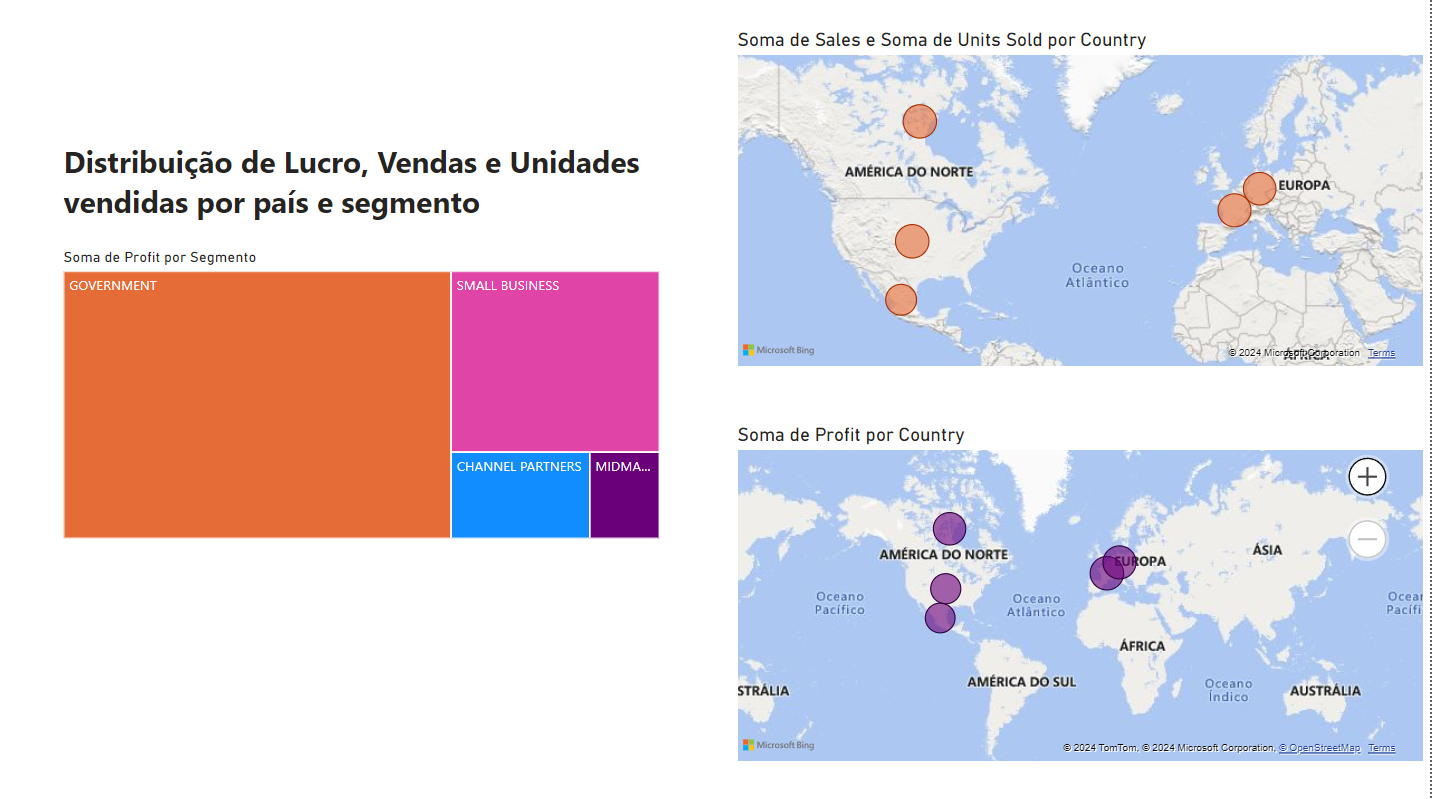

The dashboard page shown, as its layout file describes it:
{"tool":"powerbi","page":{"name":"Página 3","canvas":[1280,720],"ordinal":2},"visuals":[{"type":"map","fields":{"Size":["Sum(financials.Profit)"],"Category":["financials.Country"]},"box":[655.5,383.3,624.2,308.1],"z":0},{"type":"map","fields":{"Size":["Sum(financials. Sales)"],"Category":["financials.Country"]},"box":[655.5,29.6,624,308],"z":1000},{"type":"treemap","title":"Soma de Profit por Segmento","fields":{"Group":["financials.Segment"],"Values":["Sum(financials.Profit)"]},"box":[51.9,227.5,543.6,264.2],"z":2000},{"type":"textbox","box":[51.9,125.4,549.9,86],"z":3000}]}

Visuals, with their boxes in screenshot pixels (x1, y1, x2, y2), scaled from the page's 1280x720 canvas onto the 1454x799 screenshot:
map - Sum(financials.Profit) x financials.Country: Rect(745, 425, 1453, 767)
map - Sum(financials. Sales) x financials.Country: Rect(745, 33, 1453, 375)
"Soma de Profit por Segmento" treemap: Rect(59, 252, 676, 546)
textbox: Rect(59, 139, 684, 235)
